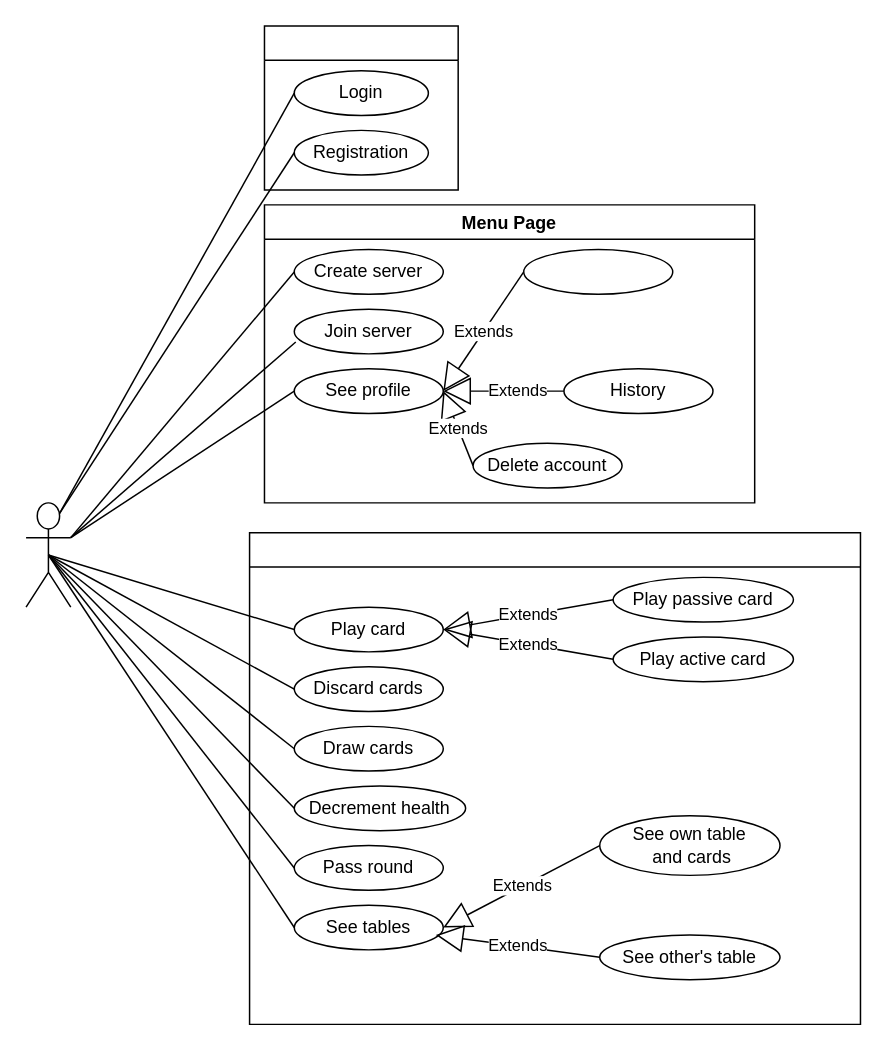
This 887x1050 diagram has some shape labels left out. The shapes that lost their labels are listed below. From the top down, each one's centre as x and y in pixels, then its label:
point (360, 107): Login Page
point (597, 271): Friends
point (48, 554): User
point (554, 777): Game Page
